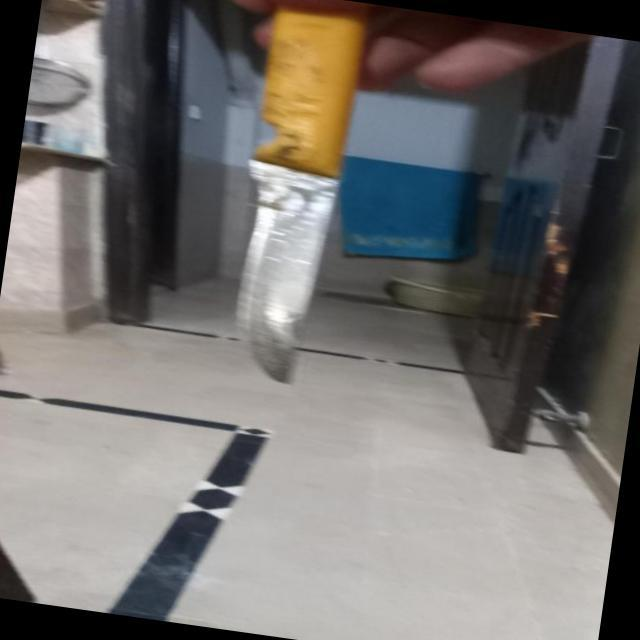Knife: (192, 0, 414, 399)
